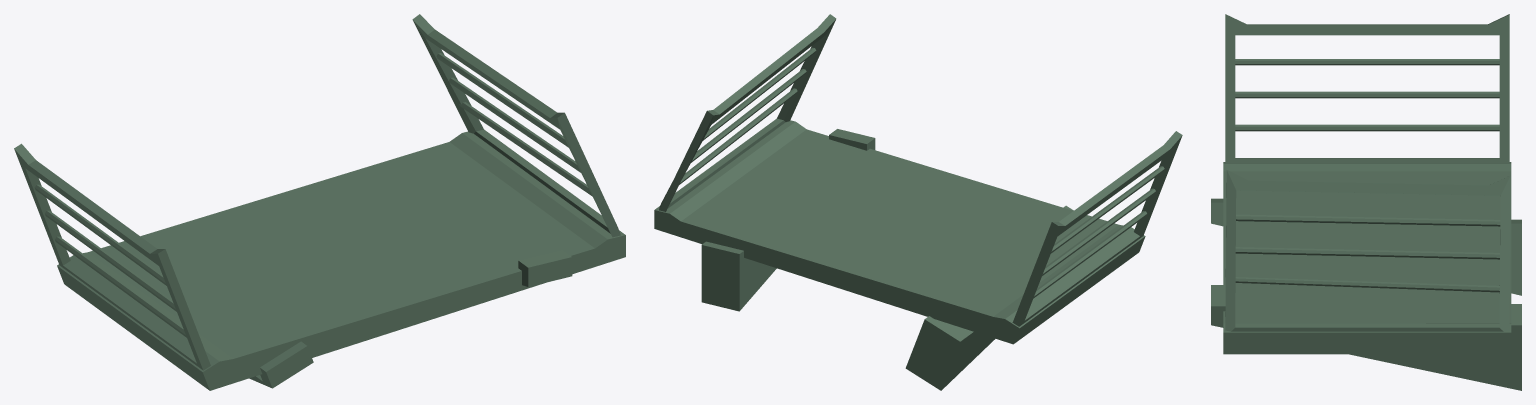
The model's file is Cube_121_geometry-panic-factory_004.fbx.
3 views of the same model, side by side, from view 1: azimuth 30°, elevation 25°; view 2: azimuth 150°, elevation 25°; view 3: azimuth 270°, elevation 25° (orthographic). The views are drawn at different scales.
Visible parts, largest first — view 1: Cube.121.geometry-panic-factory.004; view 2: Cube.121.geometry-panic-factory.004; view 3: Cube.121.geometry-panic-factory.004.
Part boxes in pixels (x1,y1,x2,y2): Cube.121.geometry-panic-factory.004: (14, 14, 625, 390); Cube.121.geometry-panic-factory.004: (654, 14, 1182, 390); Cube.121.geometry-panic-factory.004: (1211, 14, 1521, 390).
Size of the model in its own units: 1.85 by 0.9817 by 1.08.
